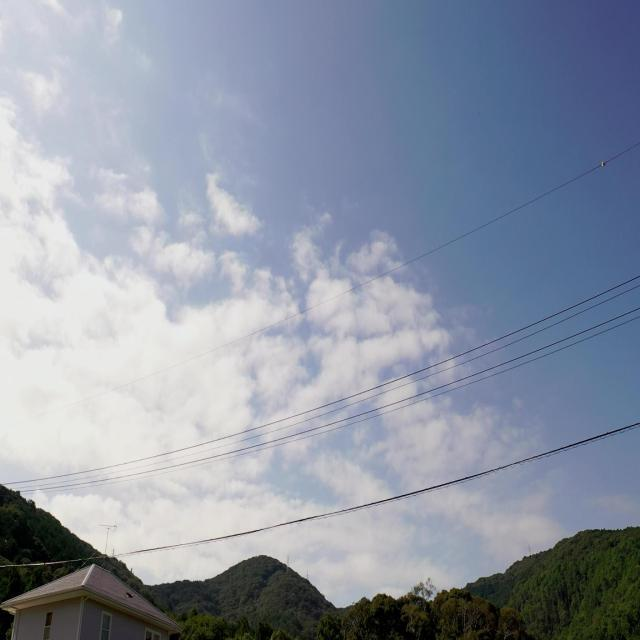Birds: (118, 586, 141, 610)
